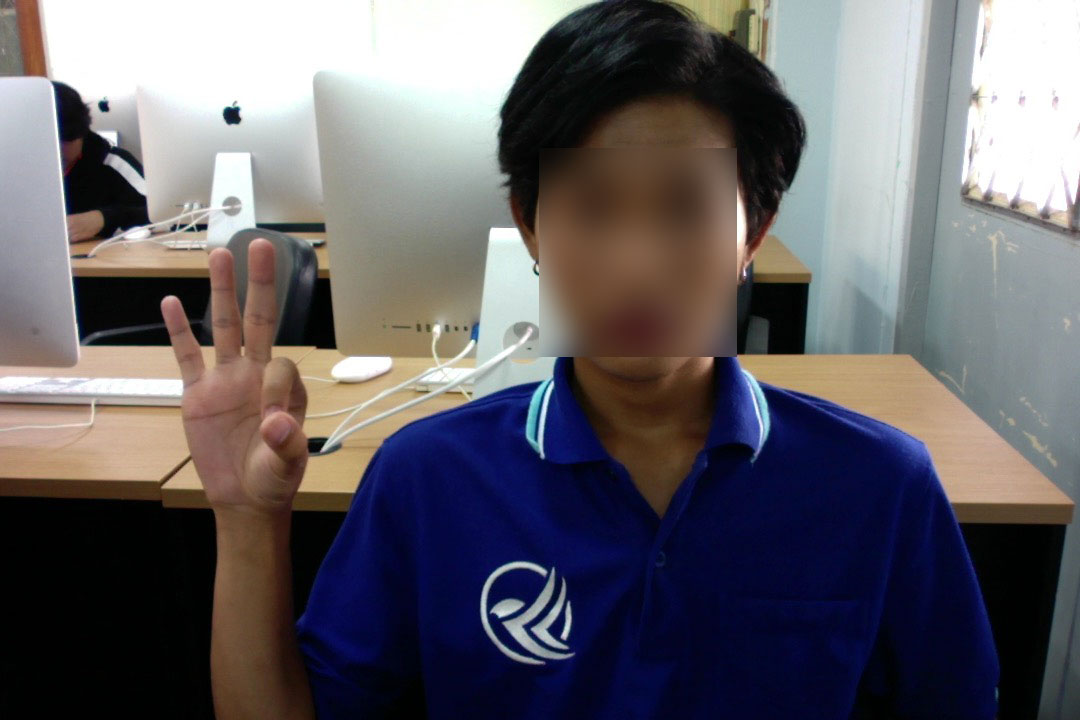for: (148, 227, 324, 527)
